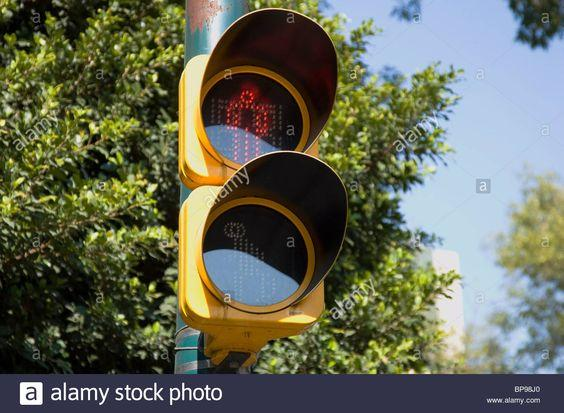red: (149, 9, 374, 333)
